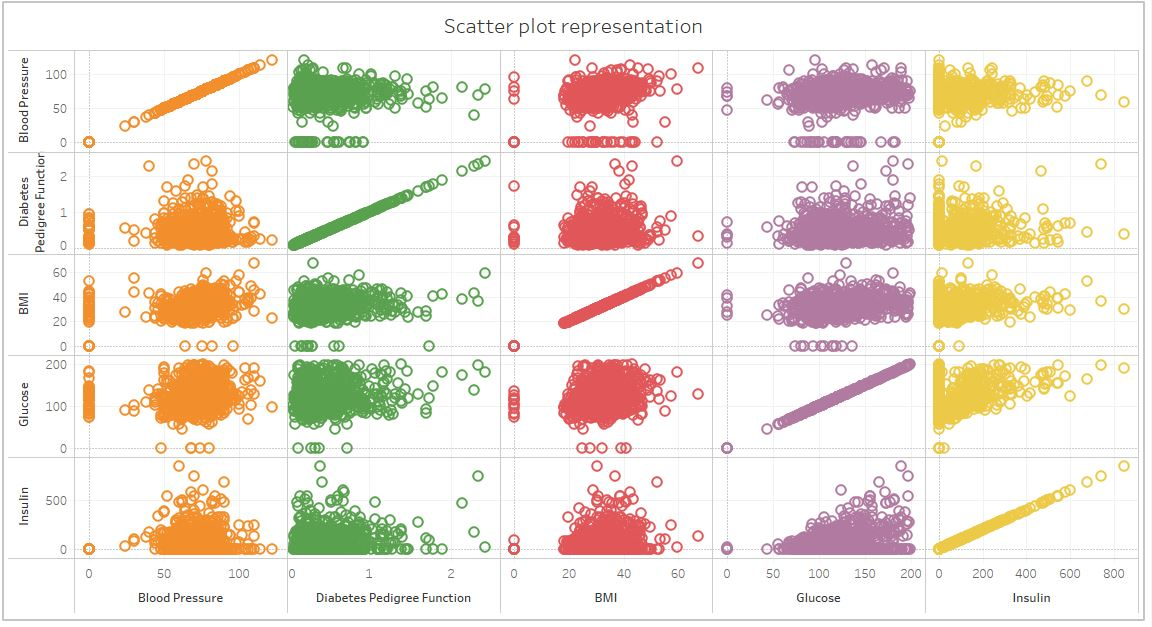

The page's visual inventory and layout, read from the dashboard file:
{"tool":"tableau","page":{"name":"Scatter plot representation-dash","canvas":[1000,1000],"units":"permille","ordinal":3},"visuals":[{"type":"worksheet","box":[0,0,1000,1000]},{"type":"worksheet","title":"Scatter plot representation-Healthcare","mark":"Automatic","rows":["BloodPressure","DiabetesPedigreeFunction","BMI","Glucose","Insulin"],"cols":["BloodPressure","DiabetesPedigreeFunction","BMI","Glucose","Insulin"],"box":[6.9,12.7,986.1,974.7]}]}

Visuals, with their boxes on the dashboard's canvas, which has no fixed pixel size, in thousandths of its width and height (x1, y1, x2, y2). These are canvas units, not pixel positions in the 1152x627 screenshot, which may show the page scaled, cropped or inside an application window:
worksheet: BBox(0, 0, 1000, 1000)
"Scatter plot representation-Healthcare" worksheet: BBox(7, 13, 993, 987)
